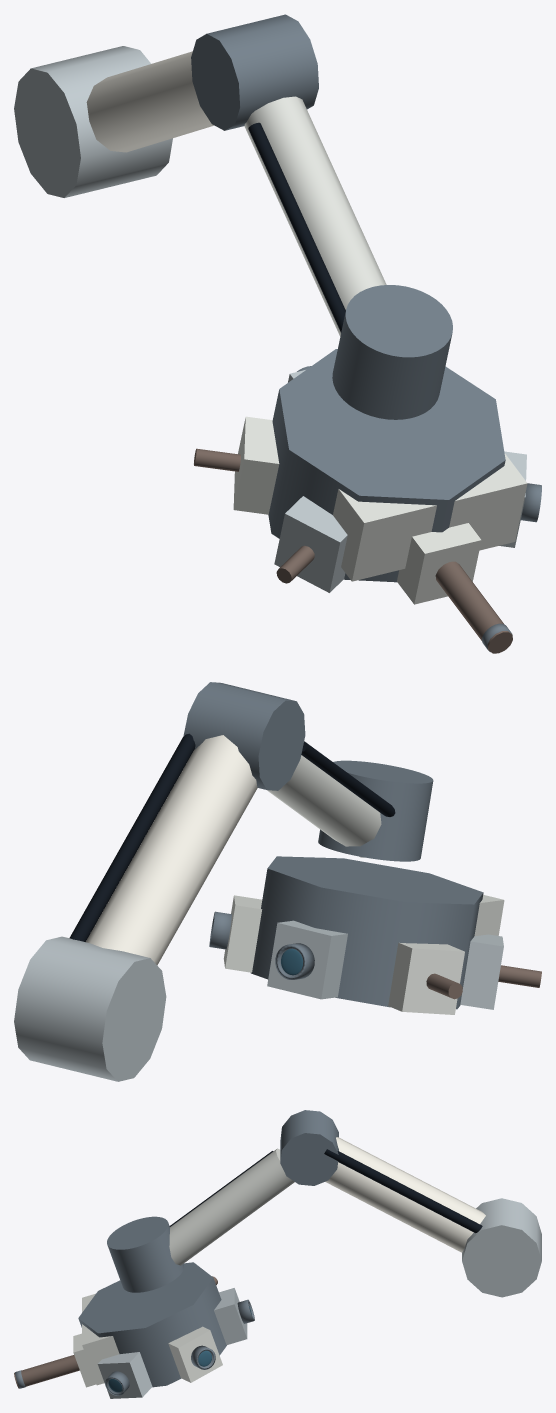
File: perseverance_arm.shoulder_azimuth.glb
3 renders of one model, top to bottom at view 1: azimuth 30°, elevation 25°; view 2: azimuth 150°, elevation 25°; view 3: azimuth 270°, elevation 25°, orthographic. The views are drawn at different scales.
Visible parts, largest first — view 1: perseverance_arm.shoulder_azimuth.shoulder_elevation.elbow.f (×3), perseverance_turret.mesh_Machined_steel, perseverance_arm.shoulder_azimuth.shoulder_elevation.mesh_Sa, perseverance_arm.shoulder_azimuth.shoulder_elevation.elbow.m, perseverance_turret.mesh_Pale_thermal_blanket, perseverance_arm.shoulder_azimuth.shoulder_elevation.mesh_Wa, perseverance_turret.contact_sensor.mesh_Satin_aluminum, perseverance_turret.drill.mesh_Pale_thermal_blanket, perseverance_turret.gdrt.mesh_Pale_thermal_blanket, perseverance_turret.drill.mesh_Heat-stained_alloy, perseverance_turret.gdrt.mesh_Heat-stained_alloy, perseverance_turret.contact_sensor.mesh_Heat-stained_alloy; view 2: perseverance_turret.mesh_Machined_steel, perseverance_arm.shoulder_azimuth.shoulder_elevation.mesh_Sa, perseverance_arm.shoulder_azimuth.shoulder_elevation.mesh_Wa, perseverance_arm.shoulder_azimuth.shoulder_elevation.elbow.f (×3), perseverance_arm.shoulder_azimuth.shoulder_elevation.elbow.m, perseverance_turret.gdrt.mesh_Pale_thermal_blanket, perseverance_arm.shoulder_azimuth.shoulder_elevation.mesh_Sh, perseverance_turret.watson.mesh_Satin_aluminum, perseverance_turret.contact_sensor.mesh_Satin_aluminum, perseverance_turret.sherloc.mesh_Pale_thermal_blanket, perseverance_turret.mesh_Pale_thermal_blanket, perseverance_turret.watson.aperture.mesh_Machined_steel (+4 smaller); view 3: perseverance_arm.shoulder_azimuth.shoulder_elevation.elbow.f (×2), perseverance_turret.mesh_Machined_steel, perseverance_arm.shoulder_azimuth.shoulder_elevation.mesh_Sa, perseverance_arm.shoulder_azimuth.shoulder_elevation.mesh_Wa, perseverance_arm.shoulder_azimuth.shoulder_elevation.elbow.m, perseverance_arm.shoulder_azimuth.shoulder_elevation.mesh_Sh, perseverance_turret.sherloc.mesh_Pale_thermal_blanket, perseverance_turret.pixl.mesh_Satin_aluminum, perseverance_turret.watson.mesh_Satin_aluminum, perseverance_turret.mesh_Pale_thermal_blanket, perseverance_turret.drill.mesh_Heat-stained_alloy, perseverance_turret.drill.mesh_Pale_thermal_blanket.
Part boxes in pixels (x1,y1,x2,y2): perseverance_arm.shoulder_azimuth.shoulder_elevation.elbow.f (×3): [244, 96, 452, 419]; perseverance_turret.mesh_Machined_steel: [268, 349, 505, 582]; perseverance_arm.shoulder_azimuth.shoulder_elevation.mesh_Sa: [14, 46, 172, 197]; perseverance_arm.shoulder_azimuth.shoulder_elevation.elbow.m: [191, 14, 318, 130]; perseverance_turret.mesh_Pale_thermal_blanket: [333, 453, 527, 581]; perseverance_arm.shoulder_azimuth.shoulder_elevation.mesh_Wa: [86, 51, 214, 152]; perseverance_turret.contact_sensor.mesh_Satin_aluminum: [274, 496, 347, 592]; perseverance_turret.drill.mesh_Pale_thermal_blanket: [397, 523, 481, 604]; perseverance_turret.gdrt.mesh_Pale_thermal_blanket: [233, 416, 279, 514]; perseverance_turret.drill.mesh_Heat-stained_alloy: [435, 561, 512, 653]; perseverance_turret.gdrt.mesh_Heat-stained_alloy: [194, 448, 240, 471]; perseverance_turret.contact_sensor.mesh_Heat-stained_alloy: [276, 545, 314, 583]; perseverance_turret.mesh_Machined_steel: [251, 856, 483, 1009]; perseverance_arm.shoulder_azimuth.shoulder_elevation.mesh_Sa: [14, 936, 166, 1081]; perseverance_arm.shoulder_azimuth.shoulder_elevation.mesh_Wa: [86, 735, 257, 965]; perseverance_arm.shoulder_azimuth.shoulder_elevation.elbow.f (×3): [267, 741, 433, 861]; perseverance_arm.shoulder_azimuth.shoulder_elevation.elbow.m: [183, 682, 305, 790]; perseverance_turret.gdrt.mesh_Pale_thermal_blanket: [388, 942, 464, 1014]; perseverance_arm.shoulder_azimuth.shoulder_elevation.mesh_Sh: [69, 733, 195, 941]; perseverance_turret.watson.mesh_Satin_aluminum: [267, 920, 347, 999]; perseverance_turret.contact_sensor.mesh_Satin_aluminum: [460, 934, 503, 1009]; perseverance_turret.sherloc.mesh_Pale_thermal_blanket: [223, 895, 262, 972]; perseverance_turret.mesh_Pale_thermal_blanket: [474, 895, 504, 936]; perseverance_turret.watson.aperture.mesh_Machined_steel: [275, 943, 314, 979]; perseverance_arm.shoulder_azimuth.shoulder_elevation.elbow.f (×2): [107, 1148, 294, 1292]; perseverance_turret.mesh_Machined_steel: [78, 1262, 226, 1387]; perseverance_arm.shoulder_azimuth.shoulder_elevation.mesh_Sa: [462, 1198, 541, 1297]; perseverance_arm.shoulder_azimuth.shoulder_elevation.mesh_Wa: [325, 1137, 485, 1252]; perseverance_arm.shoulder_azimuth.shoulder_elevation.elbow.m: [280, 1110, 338, 1185]; perseverance_arm.shoulder_azimuth.shoulder_elevation.mesh_Sh: [324, 1149, 482, 1233]; perseverance_turret.sherloc.mesh_Pale_thermal_blanket: [168, 1326, 222, 1382]; perseverance_turret.pixl.mesh_Satin_aluminum: [97, 1352, 152, 1398]; perseverance_turret.watson.mesh_Satin_aluminum: [214, 1288, 247, 1344]; perseverance_turret.mesh_Pale_thermal_blanket: [82, 1293, 119, 1385]; perseverance_turret.drill.mesh_Heat-stained_alloy: [14, 1355, 79, 1388]; perseverance_turret.drill.mesh_Pale_thermal_blanket: [73, 1333, 96, 1387].
Bounding box in the file's own units: 0.6024 × 0.942 × 1.69.
